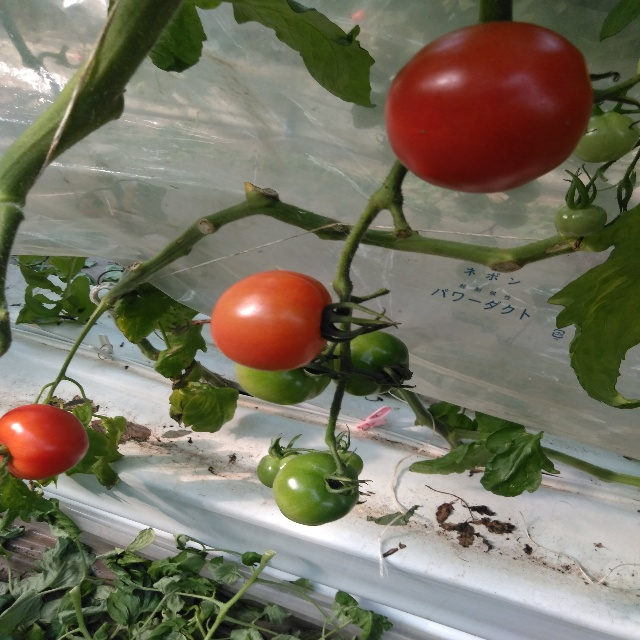l_fully_ripened: (383, 21, 593, 194), (211, 270, 335, 372), (0, 404, 89, 481)
l_green: (271, 452, 360, 524), (234, 344, 336, 405), (331, 328, 409, 396), (574, 111, 639, 163), (256, 451, 304, 488), (553, 204, 607, 236), (322, 449, 364, 477)
